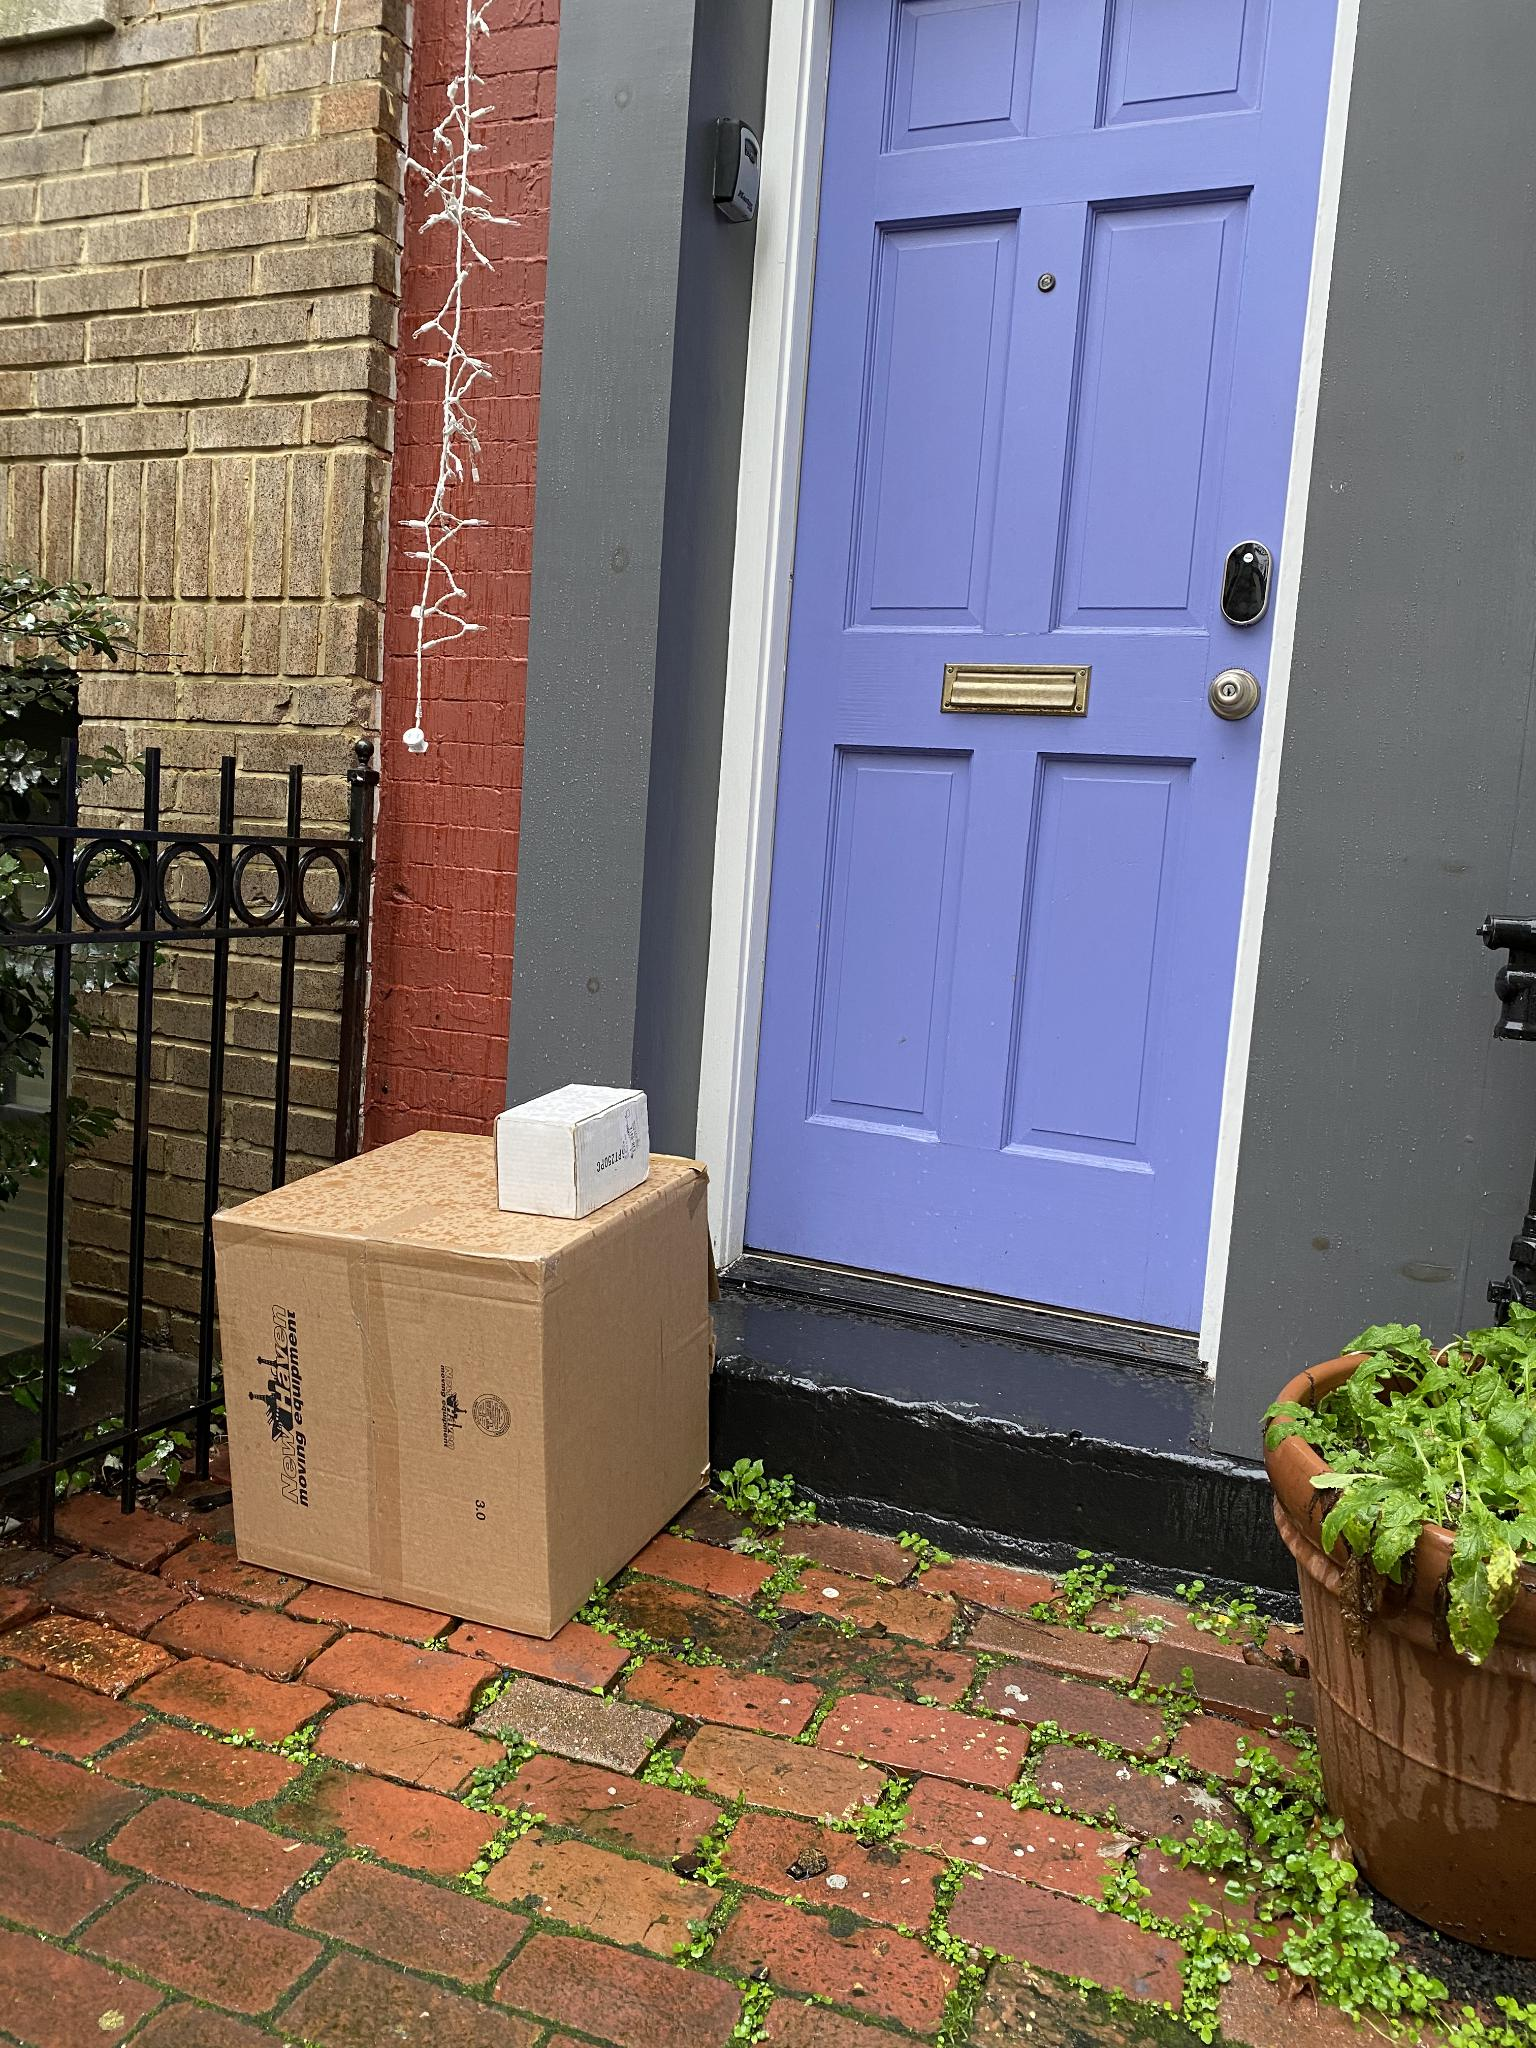package: (204, 1116, 724, 1648), (478, 1070, 656, 1226)
